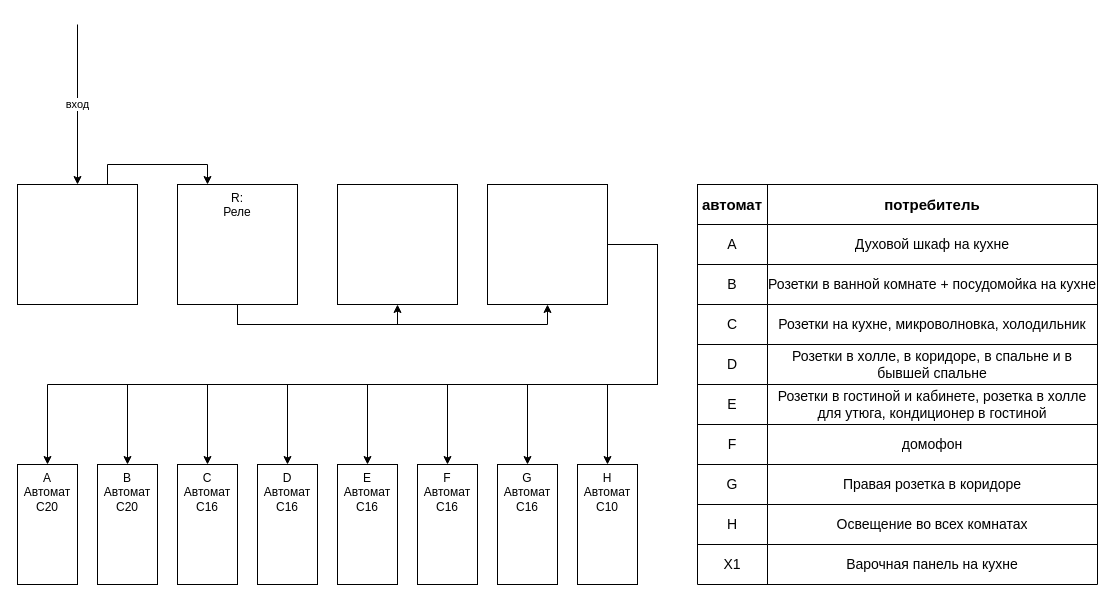
Image size: 1115x602. Some labels were removed from this diagram. Here are the shapes that lost their labels. From the top down, the centre of each, then its label:
At point (77, 244): "U: УЗО ABB SH202L C40".
At point (397, 244): "X1: Дифф. Автомат C40".
At point (547, 244): "X2: Дифф. Автомат C40".
